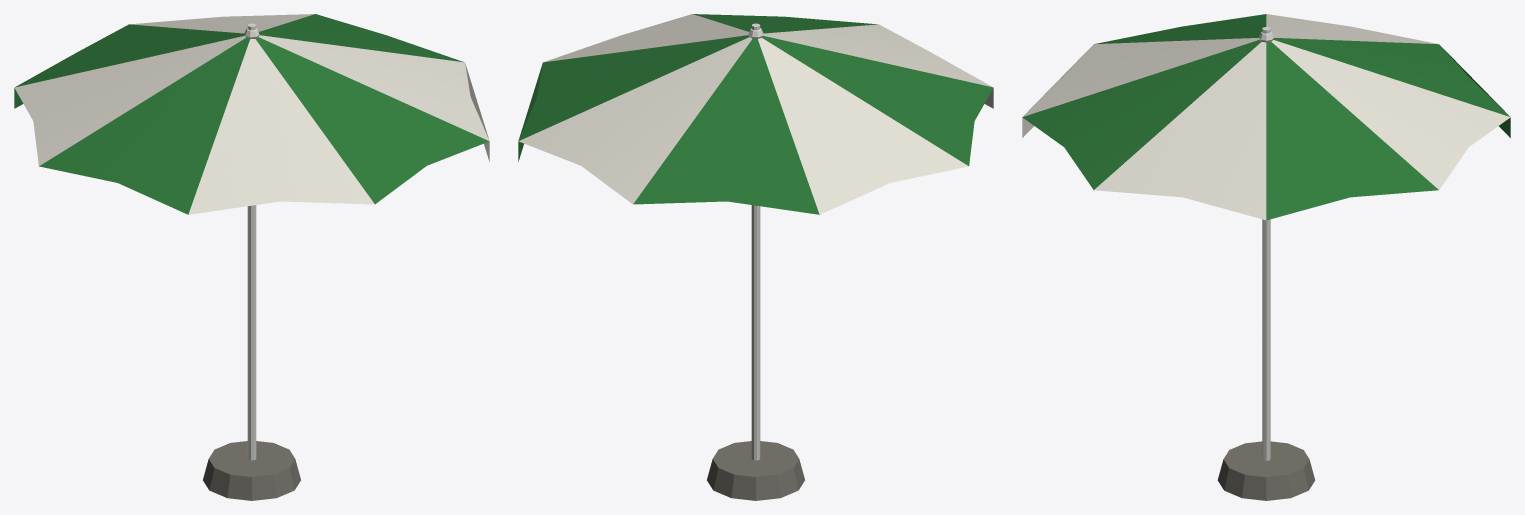
File: umbrella_green_white_lod1.glb
3 views of the same model, side by side, from view 1: azimuth 30°, elevation 25°; view 2: azimuth 150°, elevation 25°; view 3: azimuth 270°, elevation 25° (orthographic).
Visible parts, largest first — view 1: umbrella_green_white; view 2: umbrella_green_white; view 3: umbrella_green_white.
Boxes of the visible parts, x1,y1,x2,y2 form: umbrella_green_white: (14, 14, 489, 500); umbrella_green_white: (518, 14, 993, 500); umbrella_green_white: (1022, 14, 1510, 500).
Size of the model in its own units: 2.5 by 2.55 by 2.5.
Materials: 1 (1 with a texture image).
